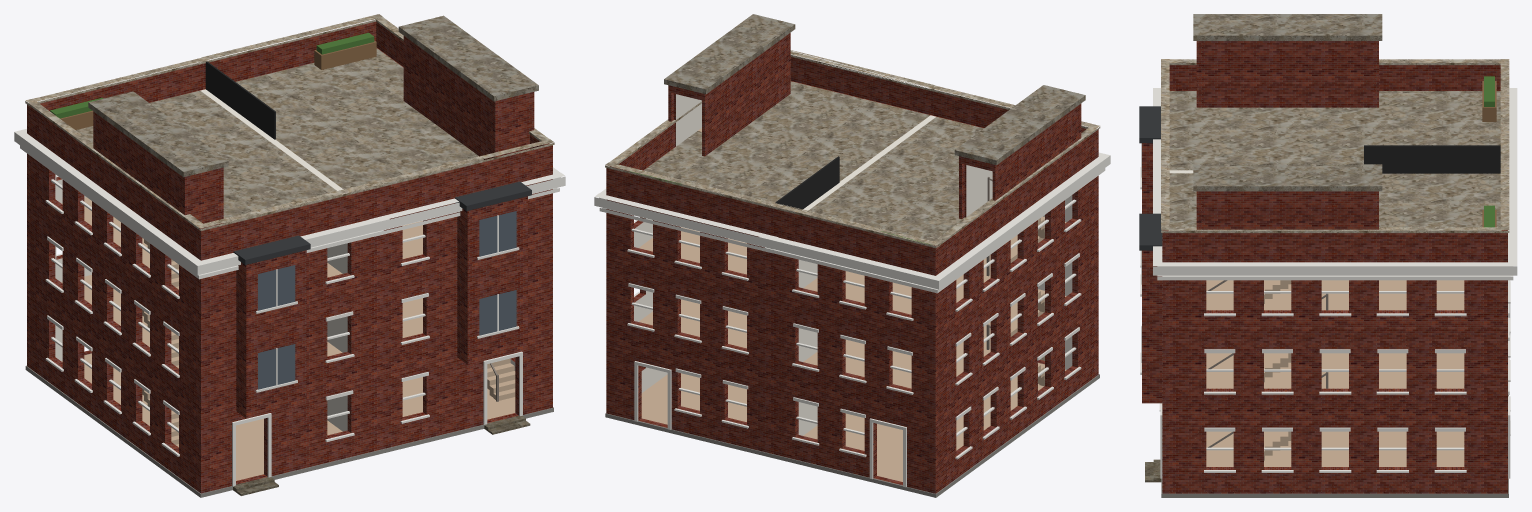
File: ns-rowhouses.towns-v2.lod0.glb
3 views of the same model, side by side, from view 1: azimuth 30°, elevation 25°; view 2: azimuth 150°, elevation 25°; view 3: azimuth 270°, elevation 25° (orthographic). The views are drawn at different scales.
Visible parts, largest first — view 1: ns-rowhouses; view 2: ns-rowhouses; view 3: ns-rowhouses.
Part boxes in pixels (left/top/right/bottom): ns-rowhouses: left=14, top=14, right=565, bottom=497; ns-rowhouses: left=594, top=14, right=1110, bottom=497; ns-rowhouses: left=1139, top=14, right=1517, bottom=497.
Bounding box in the file's own units: 14.64 × 11.97 × 13.14.
Materials: 5 (2 with a texture image).
